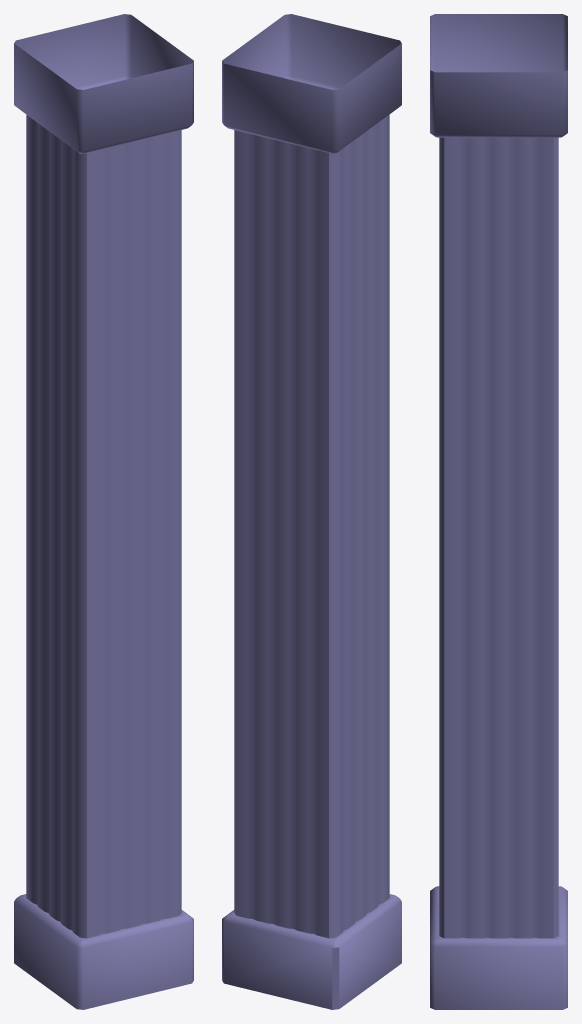
File: M_A_column.fbx
The picture shows the model from 3 angles, left to right: view 1: azimuth 30°, elevation 25°; view 2: azimuth 150°, elevation 25°; view 3: azimuth 270°, elevation 25°; orthographic projection.
Visible parts, largest first — view 1: M_A_column; view 2: M_A_column; view 3: M_A_column.
Boxes of the visible parts, <box> form: M_A_column: <box>14,14,193,1009</box>; M_A_column: <box>222,14,401,1009</box>; M_A_column: <box>430,14,567,1009</box>.
Size of the model in its own units: 40 by 300 by 40.
